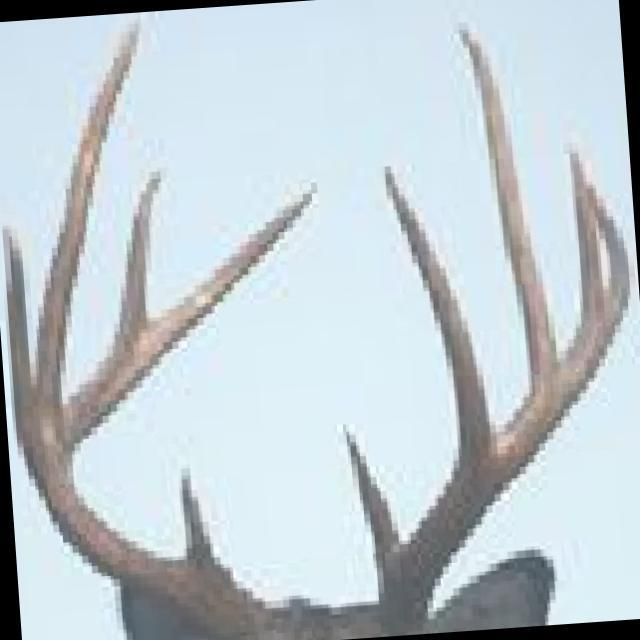L-F: (376, 177, 631, 629)
L-G1: (341, 421, 401, 570)
L-G2: (382, 165, 491, 465)
L-G3: (458, 20, 558, 389)
R-F: (16, 174, 320, 640)
R-G1: (178, 463, 222, 565)
R-G2: (0, 215, 36, 437)
R-G3: (33, 18, 142, 403)
R-G4: (113, 166, 162, 344)
